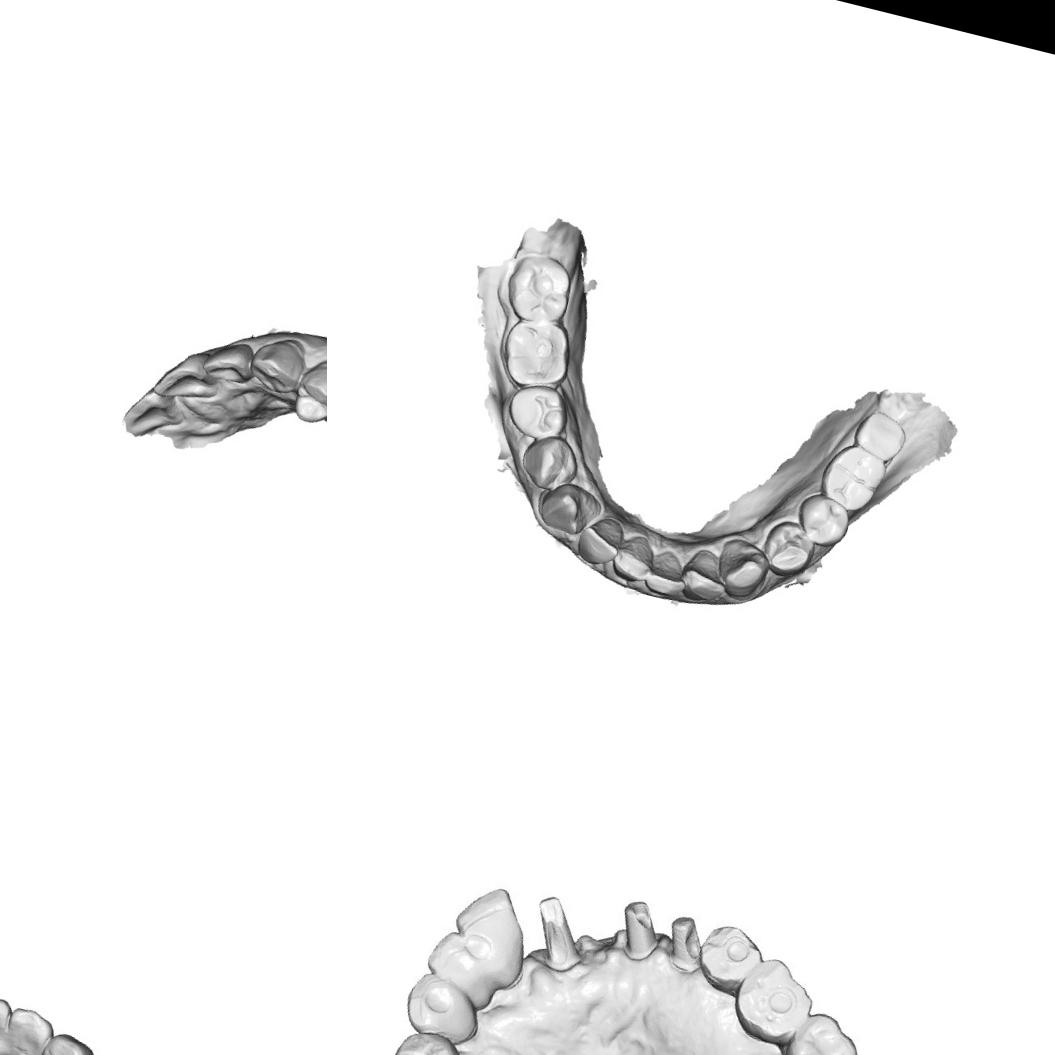abutment: (519, 882, 604, 981), (611, 892, 670, 966), (660, 908, 710, 984)
canine: (398, 966, 490, 1046), (533, 476, 604, 543), (244, 328, 309, 398), (710, 530, 774, 598), (31, 1027, 104, 1055)
incisor: (445, 878, 531, 974), (419, 925, 506, 1009), (150, 342, 228, 410), (118, 380, 192, 448), (678, 542, 734, 606), (572, 509, 628, 571), (199, 334, 261, 388), (0, 1003, 59, 1055), (606, 528, 657, 586), (642, 548, 688, 599)
molar: (730, 952, 818, 1050), (492, 310, 582, 398), (498, 245, 580, 331), (813, 440, 892, 516), (777, 1005, 864, 1055), (847, 402, 910, 462)
premolar: (687, 916, 771, 999), (502, 378, 574, 445), (514, 426, 582, 494), (754, 511, 819, 581), (794, 489, 854, 551), (288, 353, 327, 429), (384, 1026, 475, 1055)
